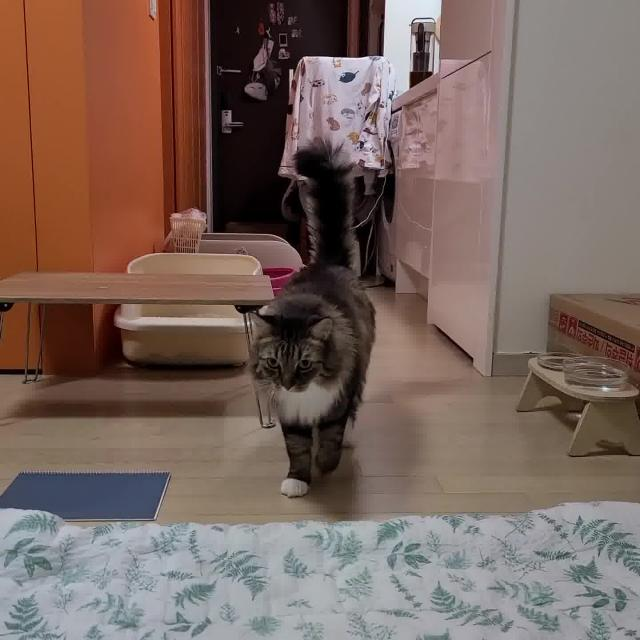cat: (235, 123, 399, 510)
